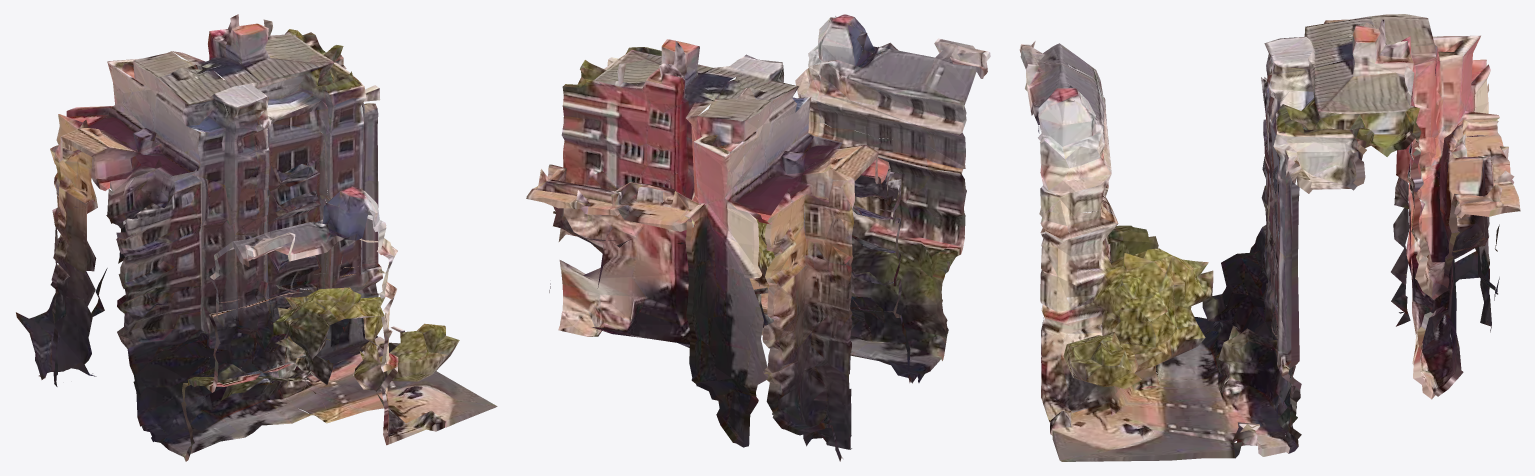
The picture shows the model from 3 angles, left to right: view 1: azimuth 30°, elevation 25°; view 2: azimuth 150°, elevation 25°; view 3: azimuth 270°, elevation 25°; orthographic projection. The views are drawn at different scales.
Parts seen in each view (by area): view 1: Mesh_0; view 2: Mesh_0; view 3: Mesh_0.
Part boxes in pixels (left/top/right/bottom): Mesh_0: left=16, top=14, right=497, bottom=461; Mesh_0: left=526, top=14, right=990, bottom=461; Mesh_0: left=1019, top=14, right=1520, bottom=461.
Size of the model in its own units: 33.58 by 35.87 by 41.36.
2 materials, 2 textured.
